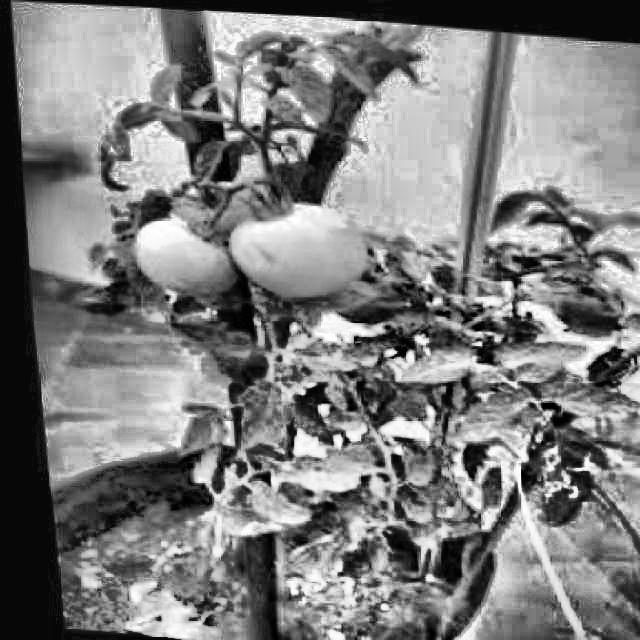plants: (51, 15, 638, 637)
